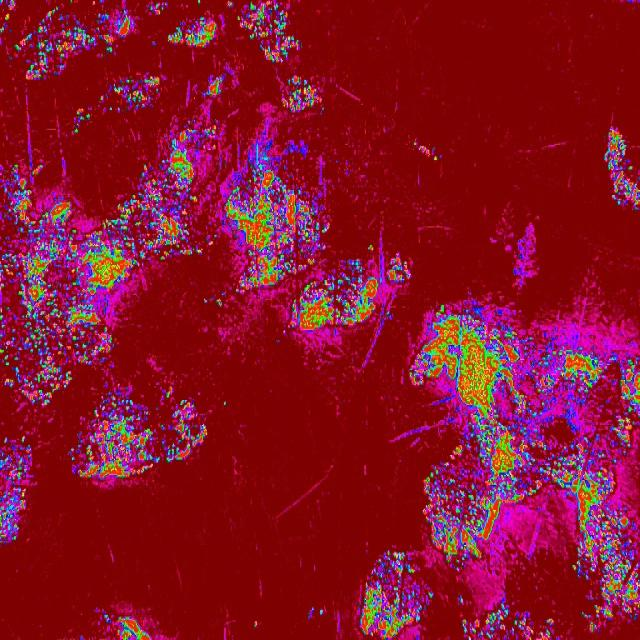fire: (222, 152, 410, 338), (465, 307, 640, 502), (0, 158, 69, 406), (70, 387, 208, 483), (1, 0, 135, 79), (571, 502, 640, 632), (126, 175, 208, 273), (68, 226, 125, 366), (358, 551, 436, 640), (425, 446, 466, 570), (409, 304, 465, 394), (237, 2, 304, 62), (0, 432, 36, 543), (460, 605, 557, 640), (603, 128, 640, 212), (141, 140, 210, 176), (104, 74, 160, 115), (467, 502, 502, 562), (278, 74, 326, 116), (166, 16, 224, 48), (102, 610, 154, 640), (176, 122, 220, 139), (70, 106, 92, 136), (414, 138, 439, 163), (202, 75, 226, 99), (144, 0, 168, 19), (104, 203, 125, 223), (308, 604, 324, 622), (210, 234, 218, 248), (252, 616, 259, 630), (224, 0, 233, 10), (215, 296, 223, 306), (98, 94, 106, 101), (202, 299, 208, 306), (196, 0, 202, 6), (222, 402, 228, 406)
